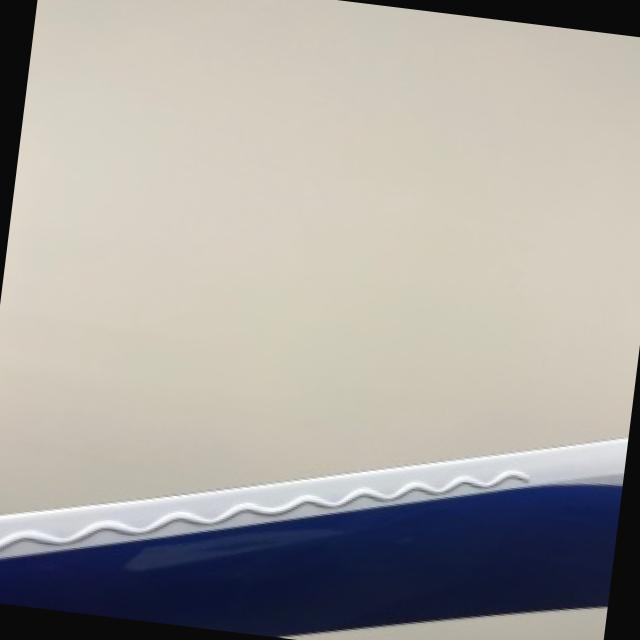healthy: (0, 437, 628, 635)
